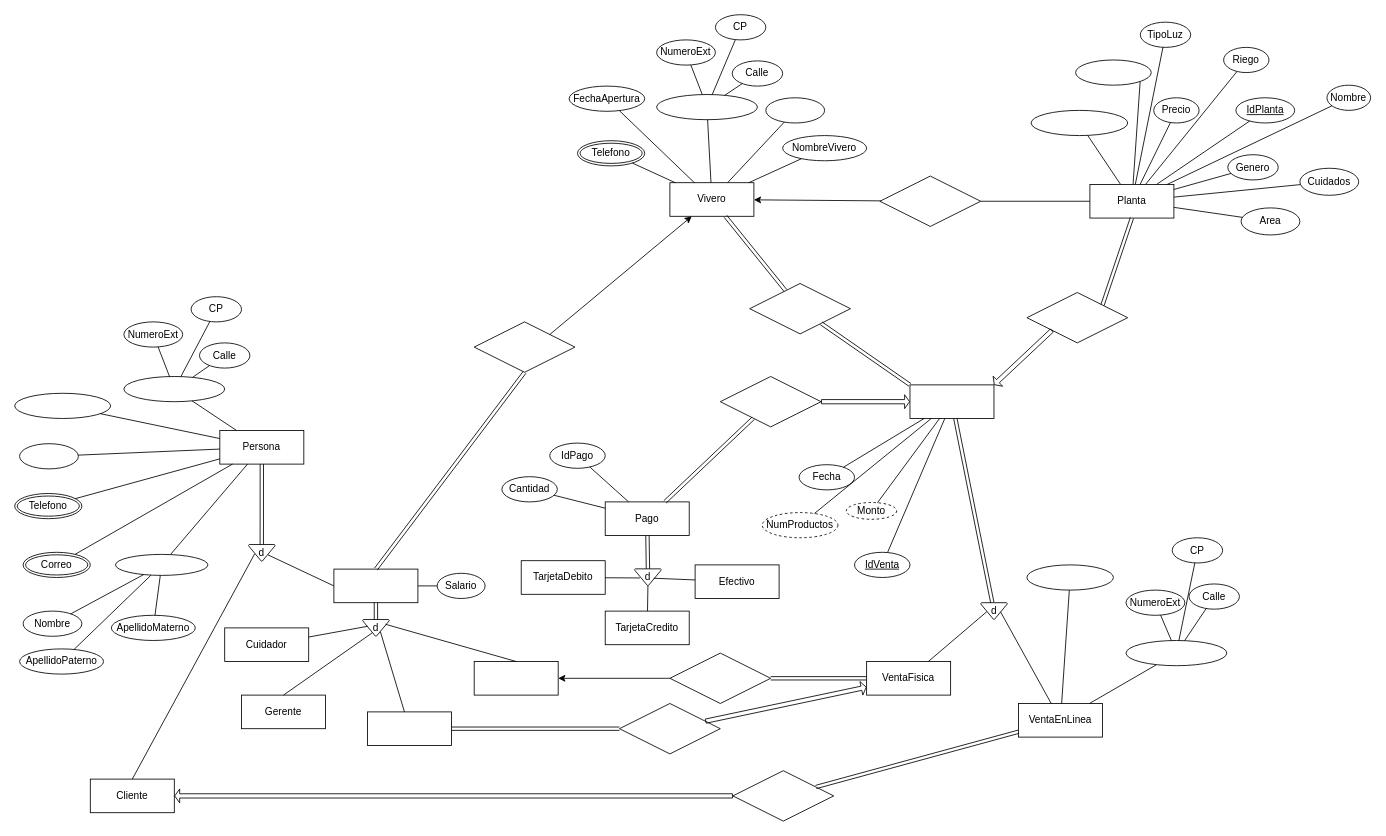
This 1386x836 diagram has some shape labels left out. Here are the shapes that lost their labels. From the top down, the centre of each, then its label:
At point (1113, 72): "TipoSustrato".
At point (706, 107): "DirreccionVivero".
At point (795, 110): "IdVivero".
At point (1079, 123): "FechaGerminacion".
At point (930, 200): "Tener".
At point (799, 308): "Adquirir".
At point (1077, 317): "Vender".
At point (524, 346): "Trabajar".
At point (62, 405): "FechaNacimiento".
At point (174, 389): "DireccionParticular".
At point (770, 401): "Pagar".
At point (951, 401): "Venta".
At point (48, 456): "IdPersona".
At point (161, 564): "NombreCompleto".
At point (1069, 577): "NumSeguimiento".
At point (375, 585): "Empleado".
At point (1176, 653): "DireccionEnvio".
At point (515, 678): "Cajero".
At point (720, 678): "Cobrar".
At point (409, 728): "Encargado".
At point (669, 728): "Ayudar".
At point (783, 795): "Realizar".
